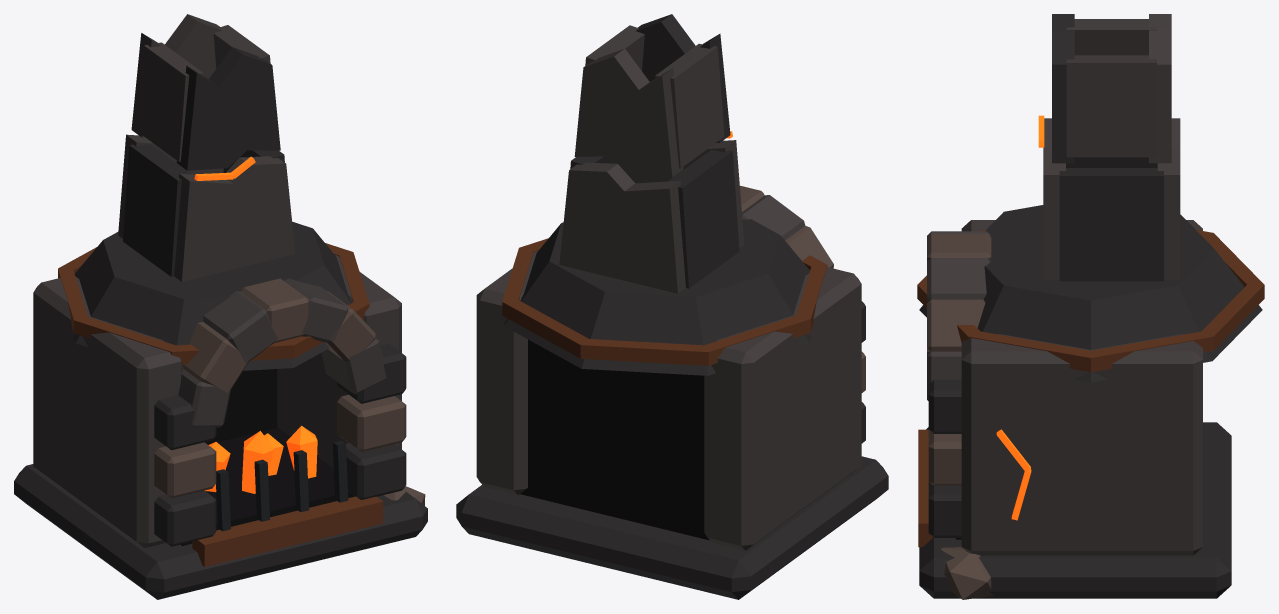
Rendered from Cracked_Furnace.glb.
3 views of the same model, side by side, from view 1: azimuth 30°, elevation 25°; view 2: azimuth 150°, elevation 25°; view 3: azimuth 270°, elevation 25° (orthographic). The views are drawn at different scales.
Visible parts, largest first — view 1: Cracked_Furnace; view 2: Cracked_Furnace; view 3: Cracked_Furnace.
Part boxes in pixels (x1,y1,x2,y2): Cracked_Furnace: (14, 14, 427, 599); Cracked_Furnace: (456, 14, 888, 599); Cracked_Furnace: (917, 14, 1264, 599).
Bounding box in the file's own units: 2.09 × 3.22 × 2.
